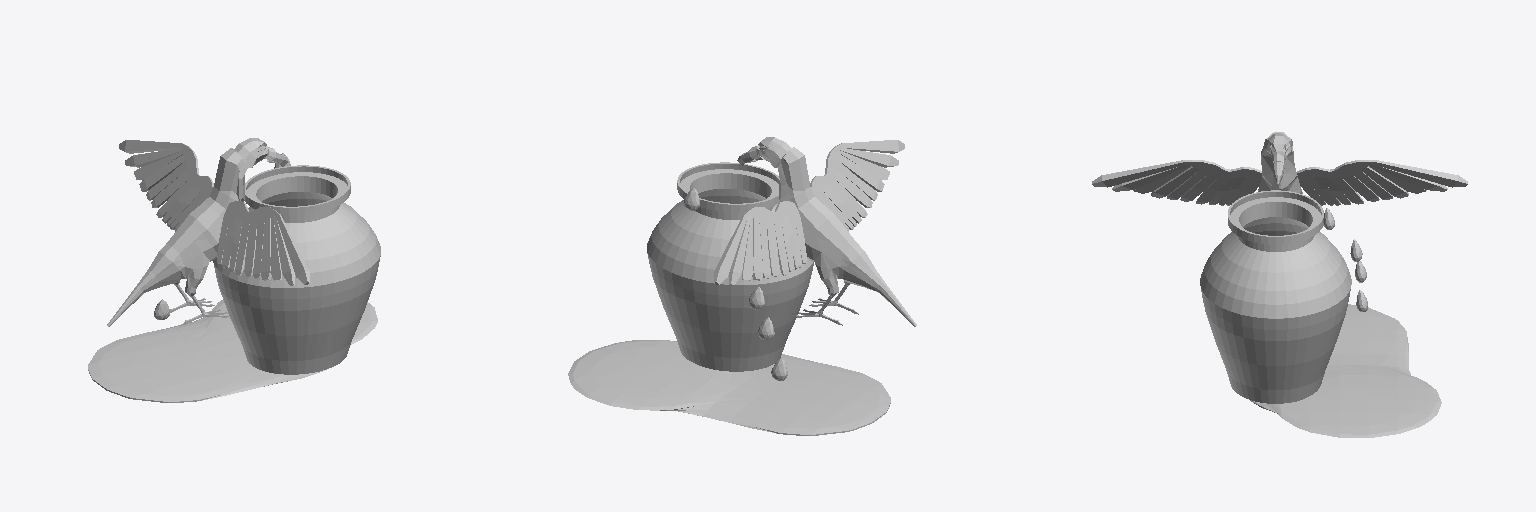
The model's file is bheegahuakaua11.obj.
3 views of the same model, side by side, from view 1: azimuth 30°, elevation 25°; view 2: azimuth 150°, elevation 25°; view 3: azimuth 270°, elevation 25° (orthographic).
Visible parts, largest first — view 1: Circle, Cylinder, Mball; view 2: Circle, Mball, Cylinder; view 3: Circle, Mball, Cylinder.
Boxes of the visible parts, <box> form: Circle: <box>213,165,380,374</box>; Cylinder: <box>107,138,309,326</box>; Mball: <box>88,300,377,402</box>; Circle: <box>647,162,813,371</box>; Mball: <box>568,340,890,435</box>; Cylinder: <box>714,137,916,326</box>; Circle: <box>1200,190,1351,403</box>; Mball: <box>1250,304,1441,437</box>; Cylinder: <box>1092,132,1467,205</box>.
Size of the model in its own units: 1.18 by 0.8873 by 1.28.